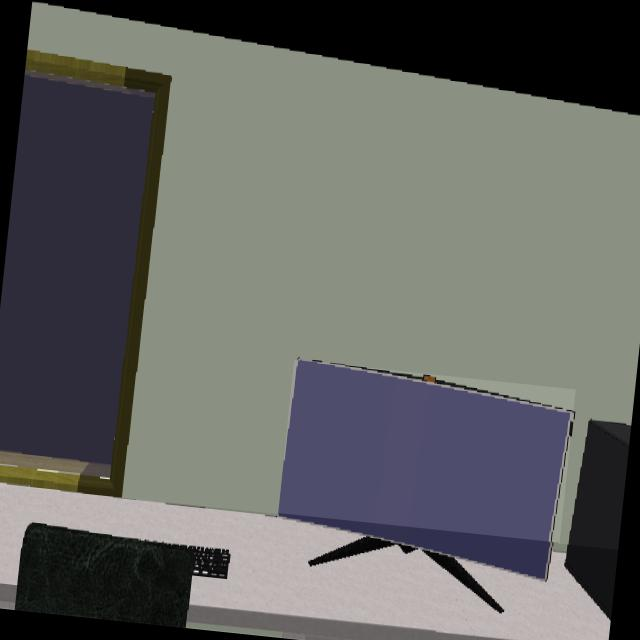monitor: (278, 360, 572, 610)
table: (0, 485, 610, 640)
